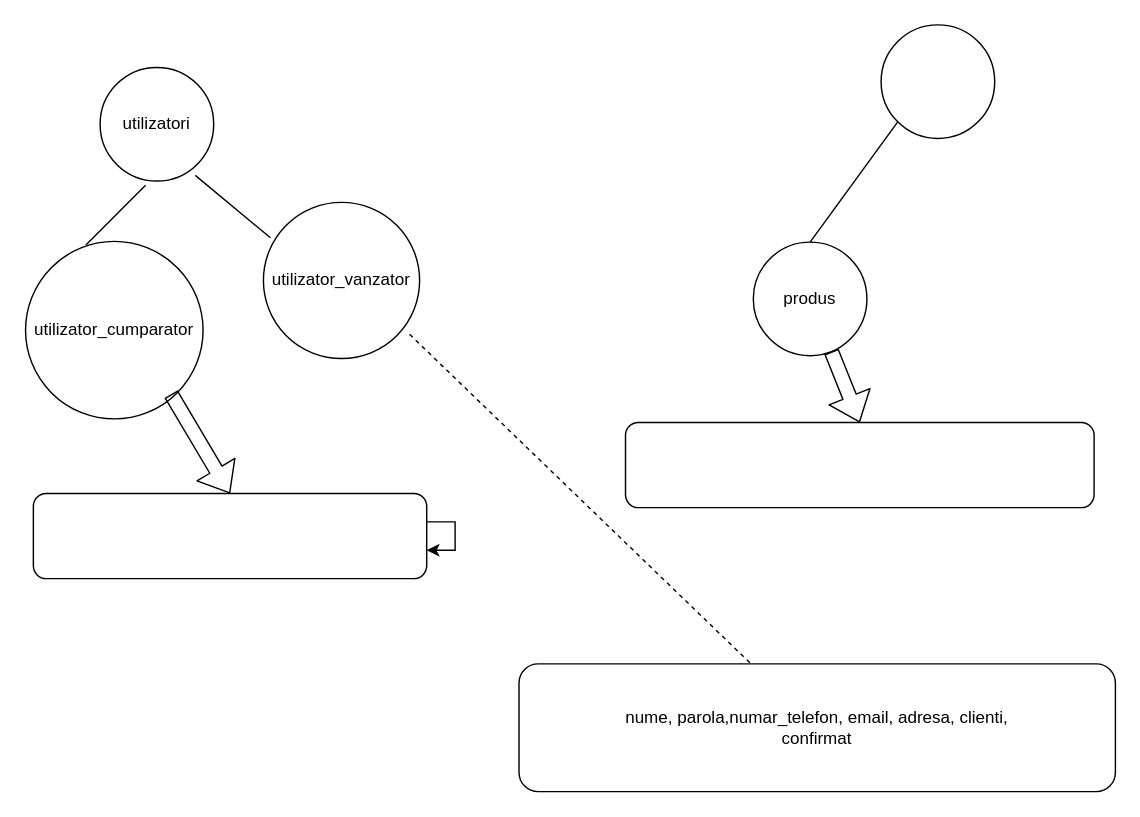
The diagram is 1140 pixels wide and 817 high, and some of its shapes have lost their labels. The box of each missing label's shape, as (x1, y1, x2, y2) in pixels:
nume, parola, numar_telefon, email, adresa, statut, confirmat: (32, 492, 427, 579)
poza, numele, cantitate, pret, descriere: (624, 421, 1094, 508)
produse: (880, 23, 995, 138)
